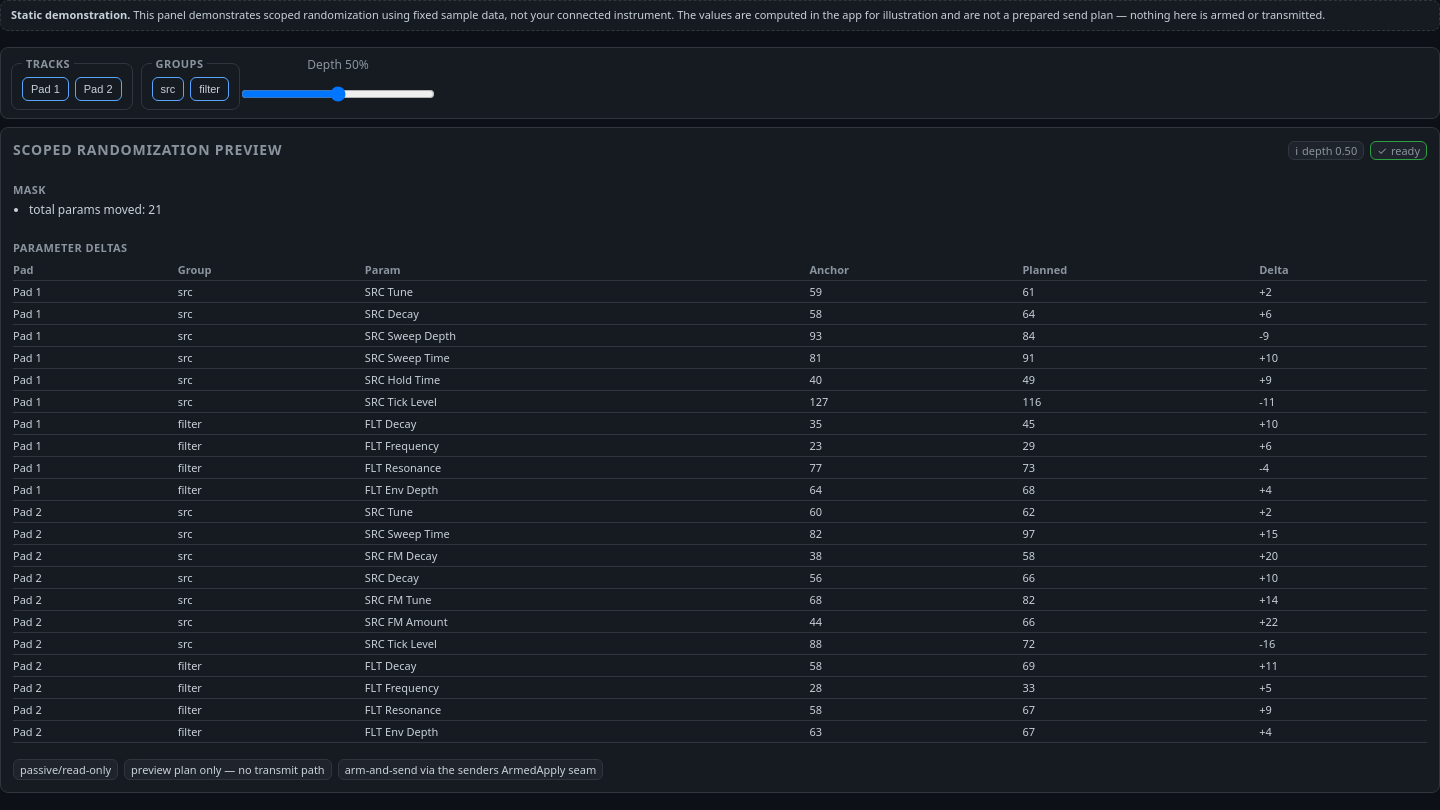
Test: ScopedRandomizationPanel (interactive) › deselecting all tracks flips the badge to not-ready
Click the button with test id "scope-track-1" at (45, 88), box [22,76,69,100]
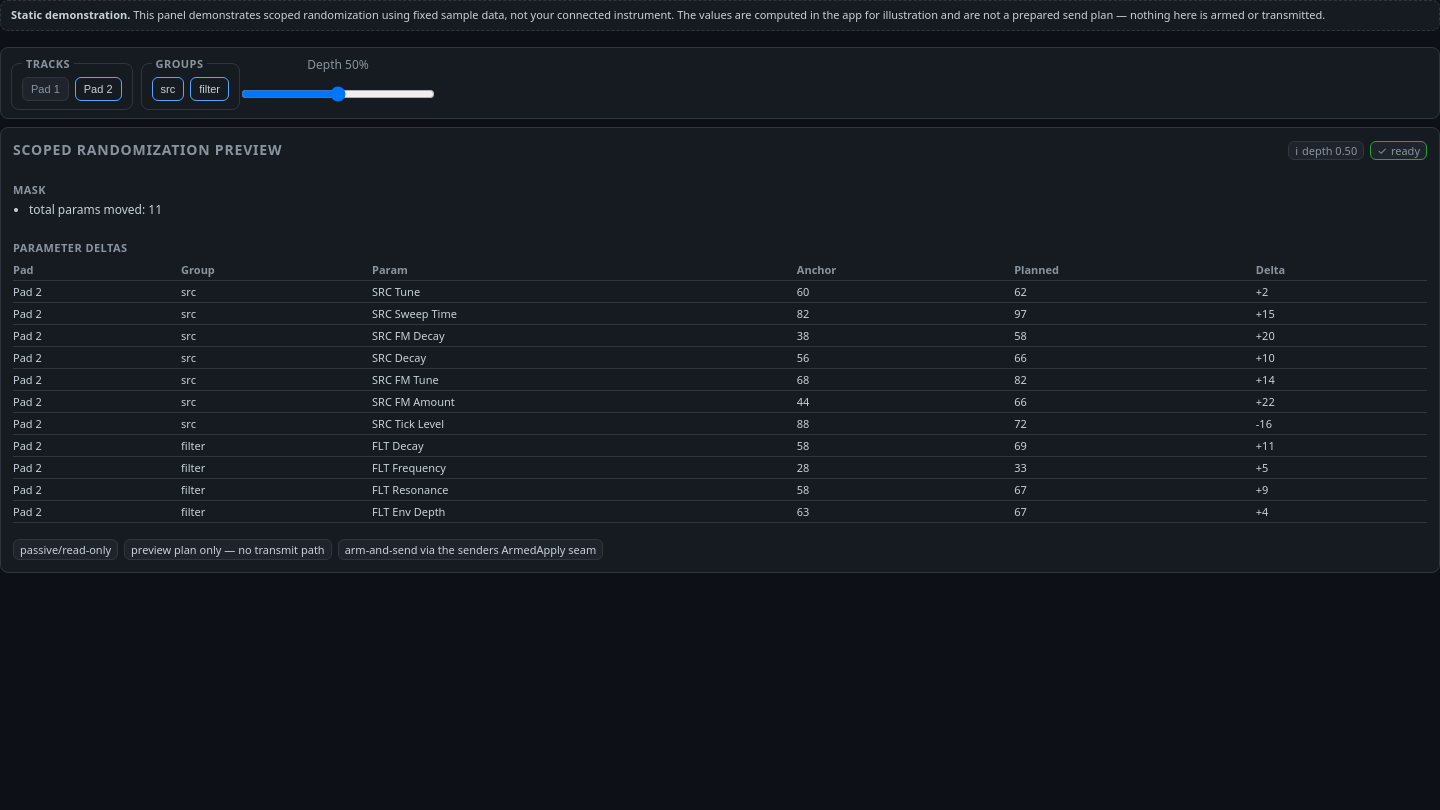
Click the button with test id "scope-track-2" at (98, 88), box [75,76,122,100]
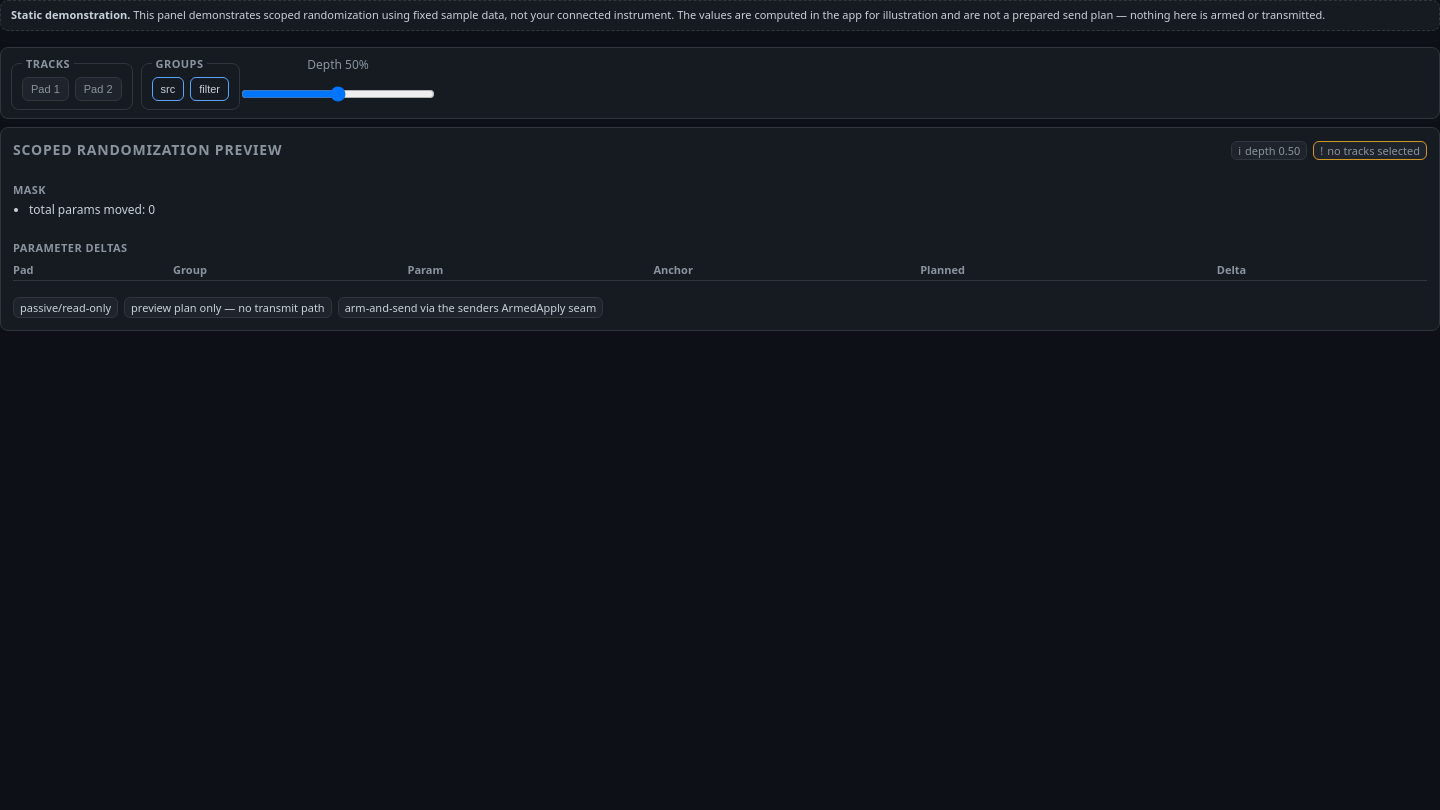
Check: the text "no tracks selected" is shown, box [1327,142,1420,158]
